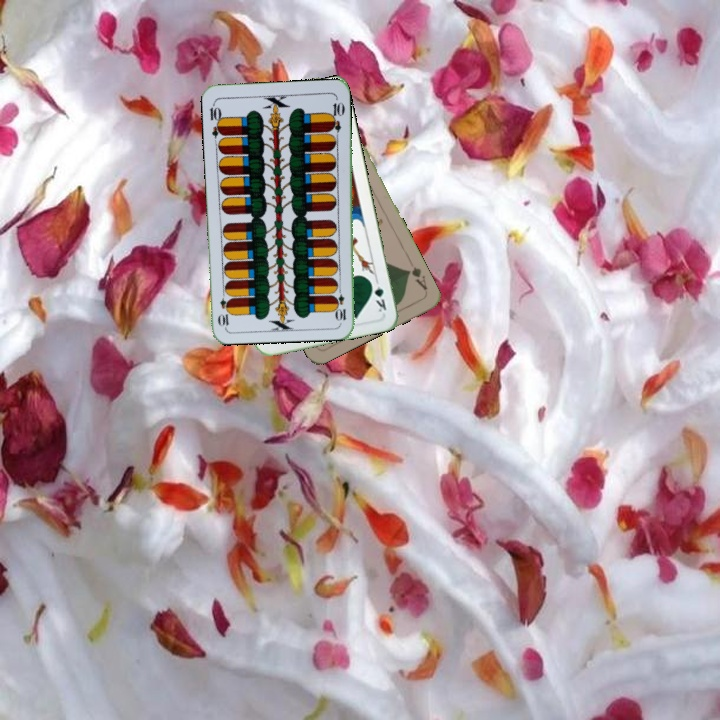E10: (206, 99, 226, 140), (333, 283, 348, 323)
GA: (402, 263, 430, 293)
GK: (366, 275, 389, 314)
